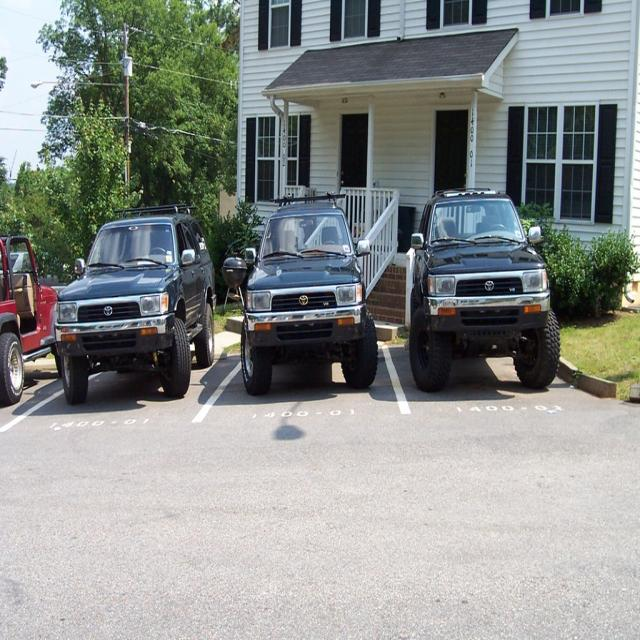car: (406, 176, 561, 387), (52, 201, 216, 393), (242, 188, 378, 395)
